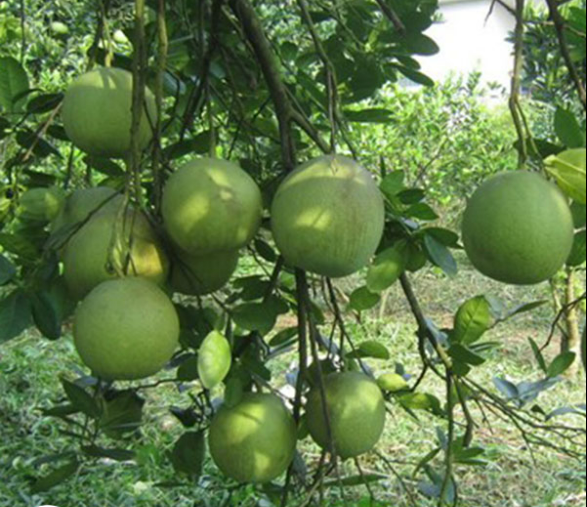buoi: (264, 139, 387, 285), (456, 161, 579, 292), (65, 272, 185, 386), (157, 151, 267, 263), (55, 64, 166, 163), (204, 388, 299, 492), (301, 371, 391, 461)
